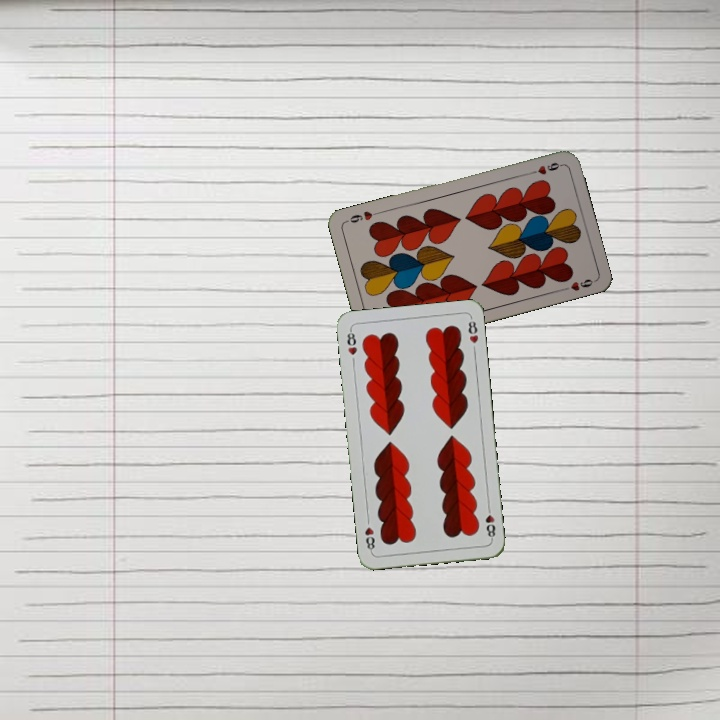H8: (481, 502, 498, 542), (343, 326, 360, 358)
H9: (525, 158, 564, 177)
